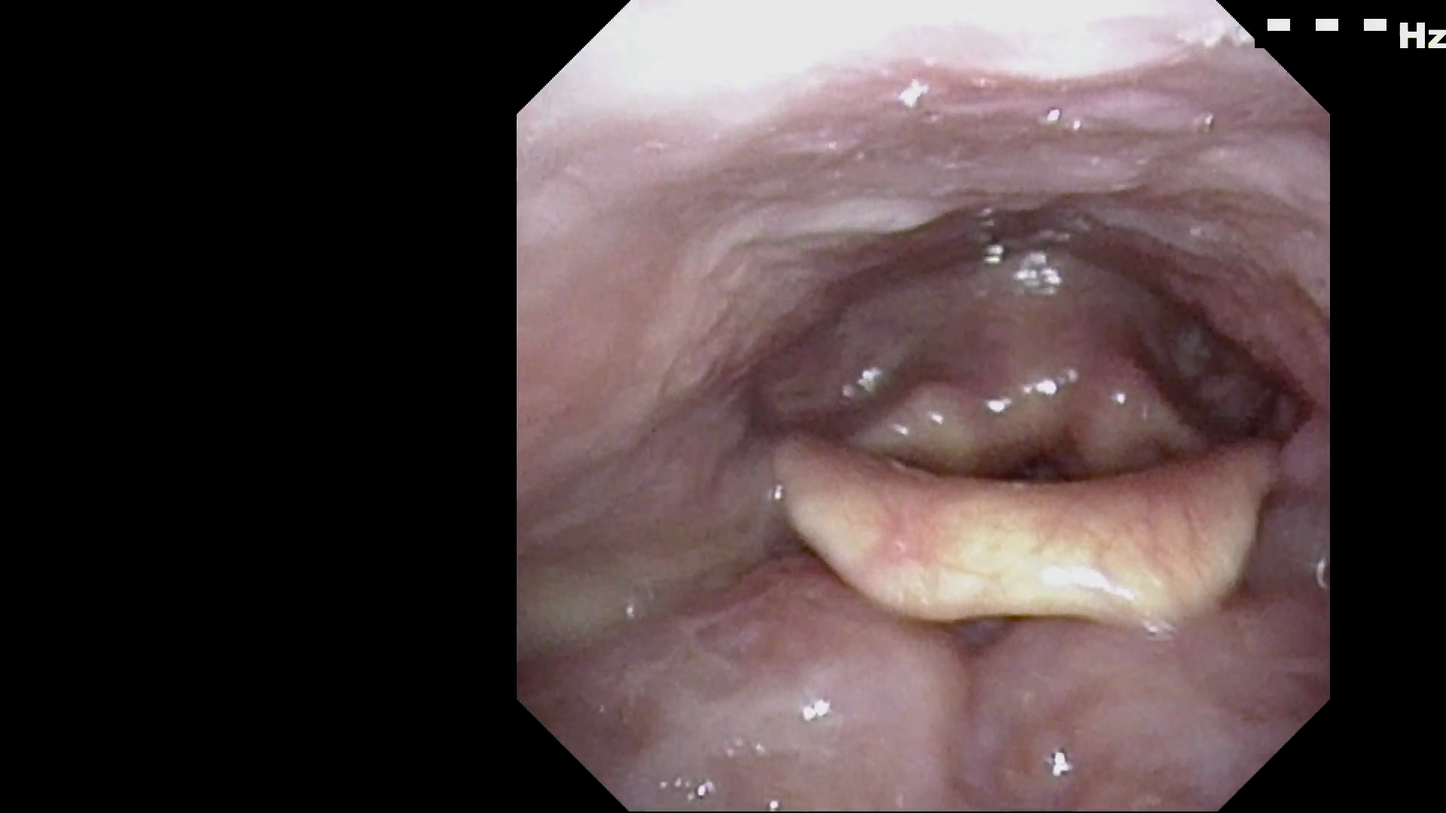epiglottis: (764, 388, 1301, 628)
trachea: (962, 382, 1109, 536)
